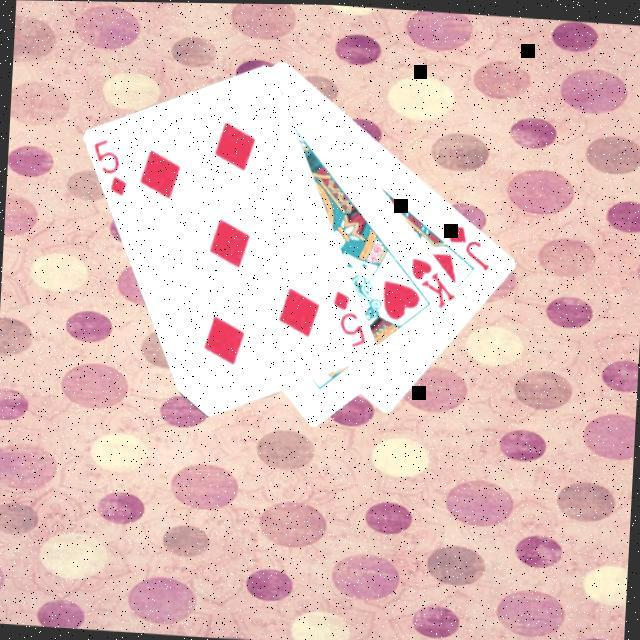5D: (89, 137, 134, 202), (330, 287, 374, 352)
JD: (443, 222, 497, 276)
KH: (408, 254, 463, 314)
